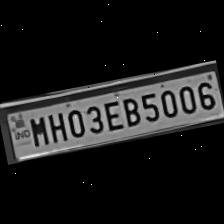0: (154, 84, 180, 119), (61, 104, 86, 139), (174, 80, 198, 115)
3: (81, 100, 104, 136)
5: (136, 88, 160, 124)
6: (192, 76, 217, 112)
B: (118, 92, 142, 128)
E: (99, 96, 124, 132)
H: (43, 108, 68, 144)
M: (25, 112, 49, 148)
